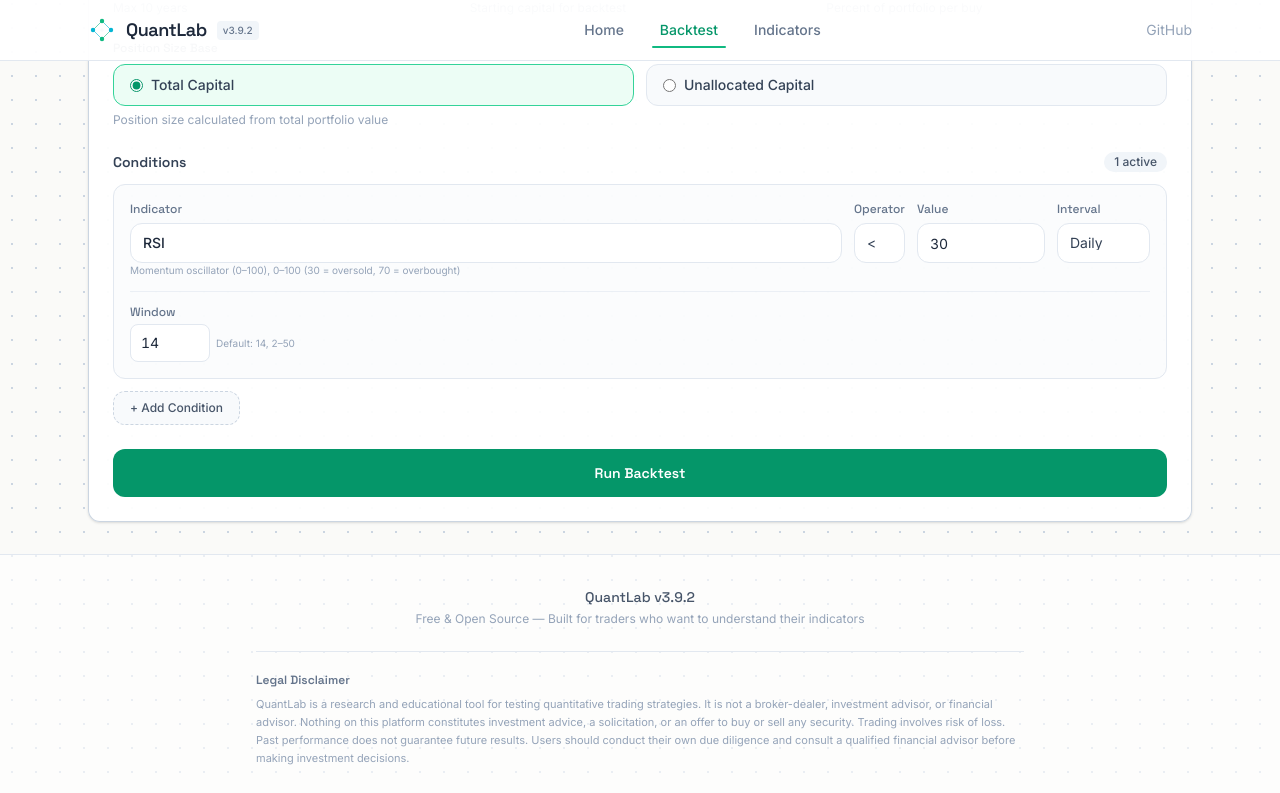
Scenario: App backtest error surfacing › falls back to a generic message when no detail is given
This screenshot has width=1280, height=793.
(page scrolled)
Click the button "Run Backtest".
click(640, 473)  # box x1=113 y1=449 x2=1167 y2=497
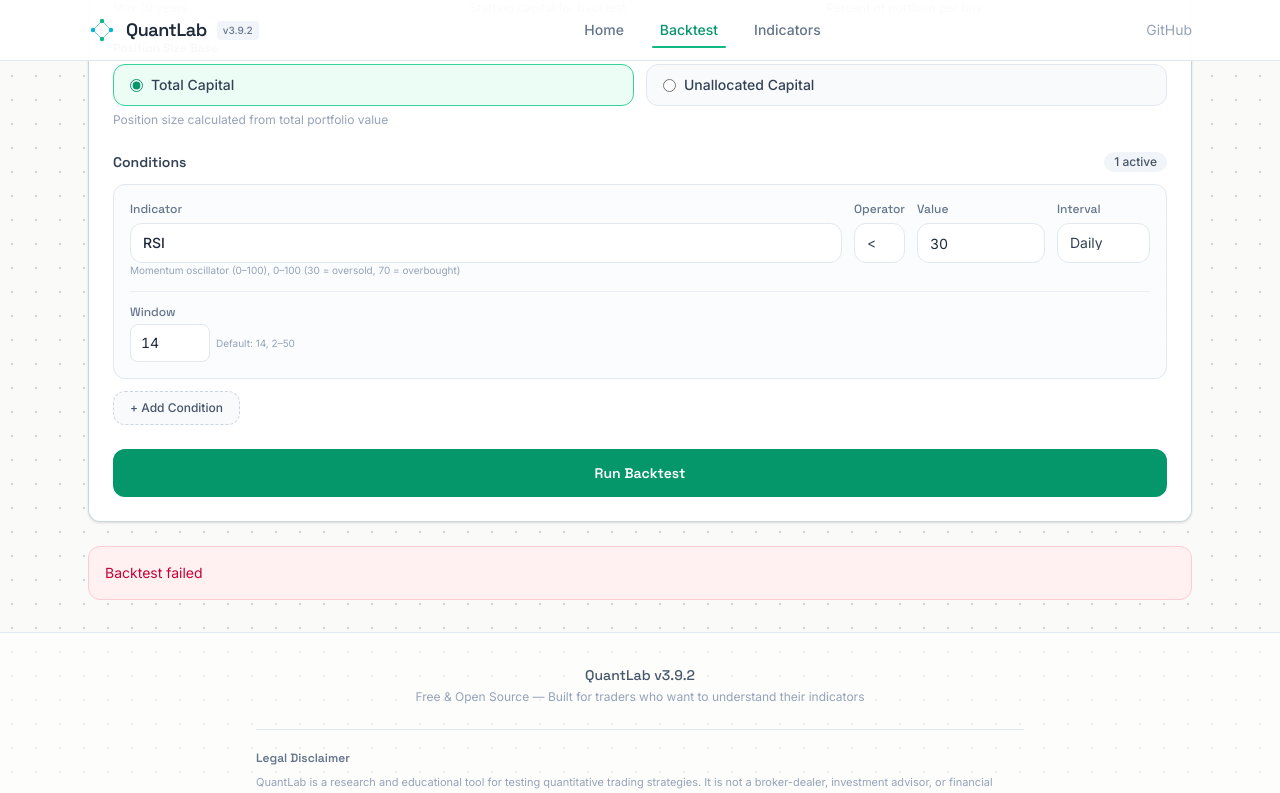
Result: the text "Backtest failed" is shown at x1=88 y1=546 x2=1192 y2=600
